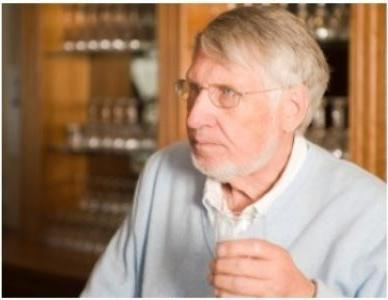Sober: (181, 52, 279, 174)
